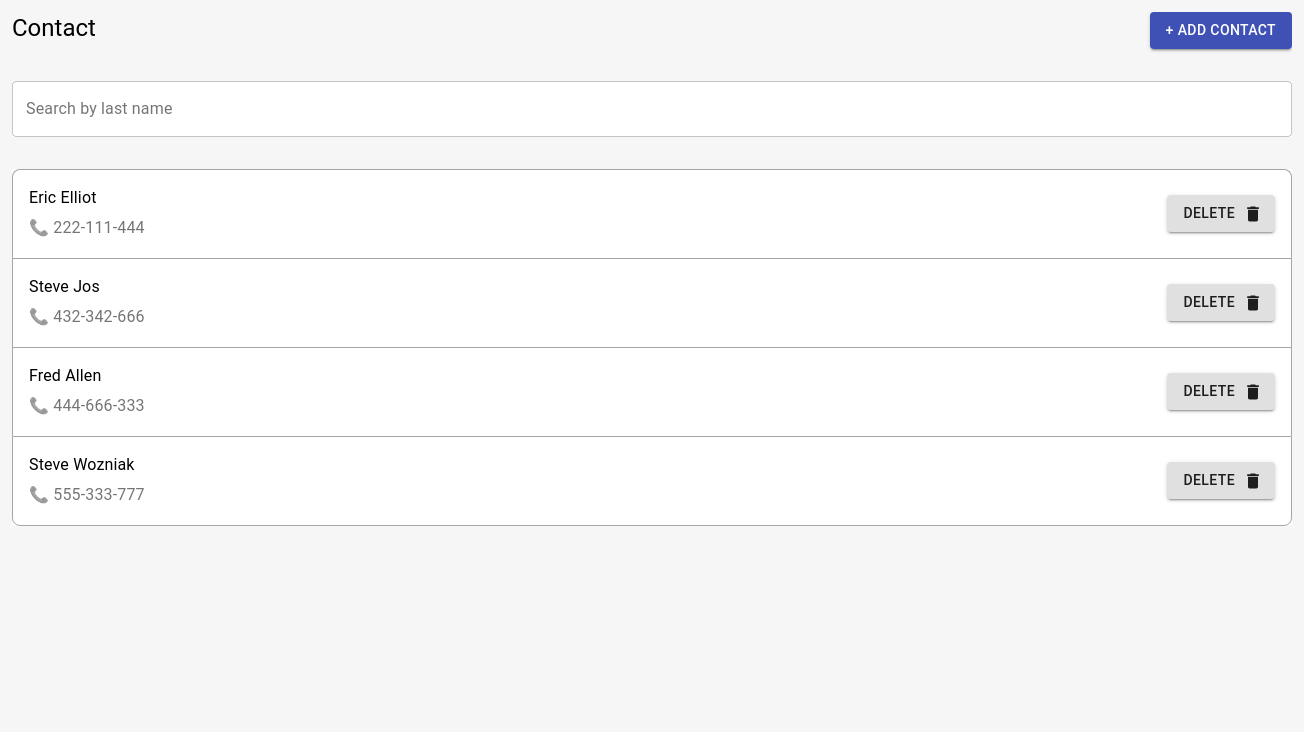
Home page tests › should show Eric Elliot contact after search Elliot
The image size is (1304, 732).
In the field labelled "Search by last name": (641, 108) left=12, top=80, right=1270, bottom=136, type "Elliot"
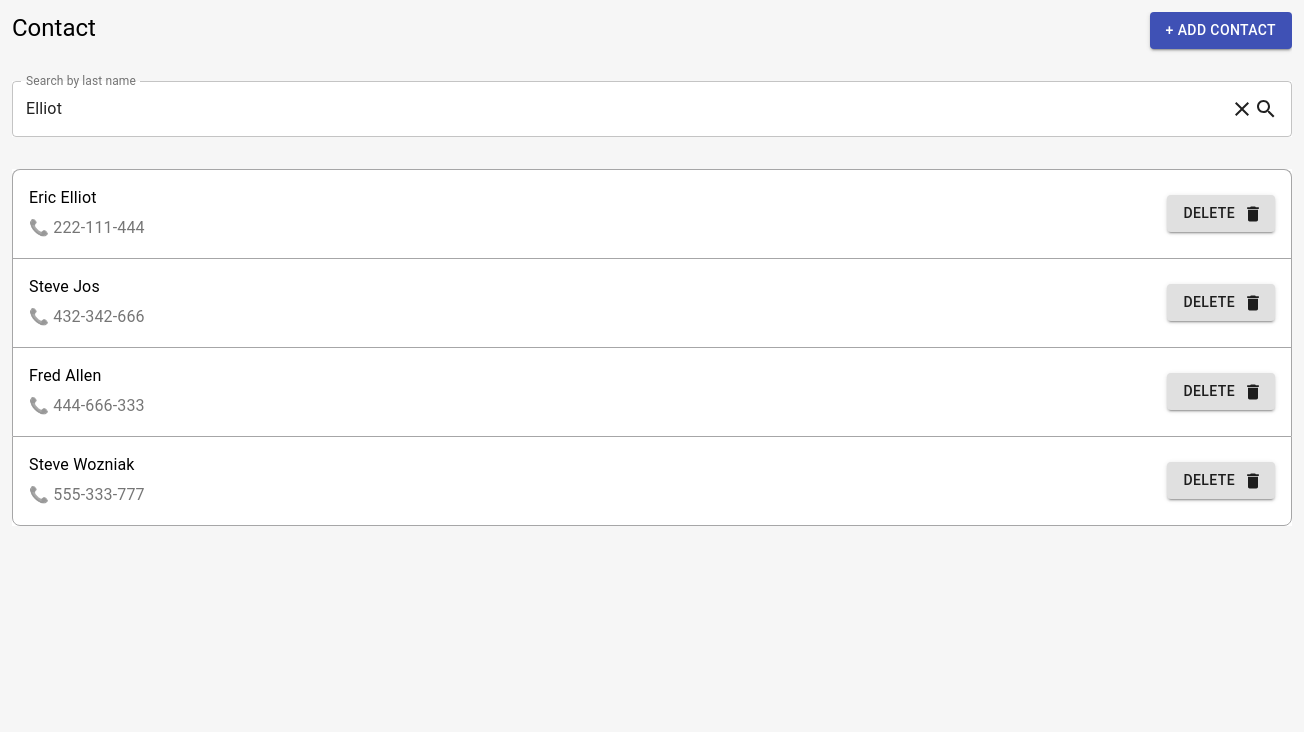
Click the icon with test id "search-icon": (1266, 108) left=1254, top=96, right=1278, bottom=120
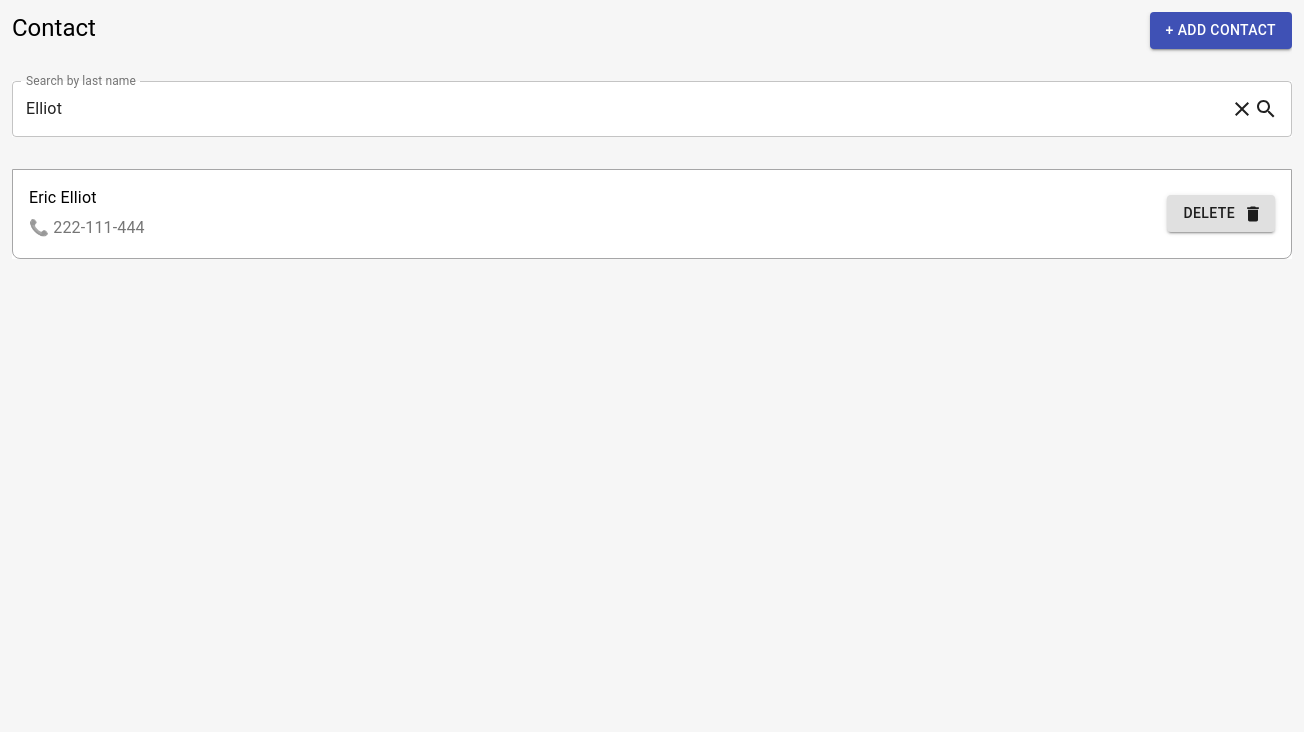
Expected: the text "Eric Elliot" is shown, left=29, top=188, right=96, bottom=206
Expected: the number of rows named "contact-item" is 1, left=12, top=168, right=1292, bottom=258
